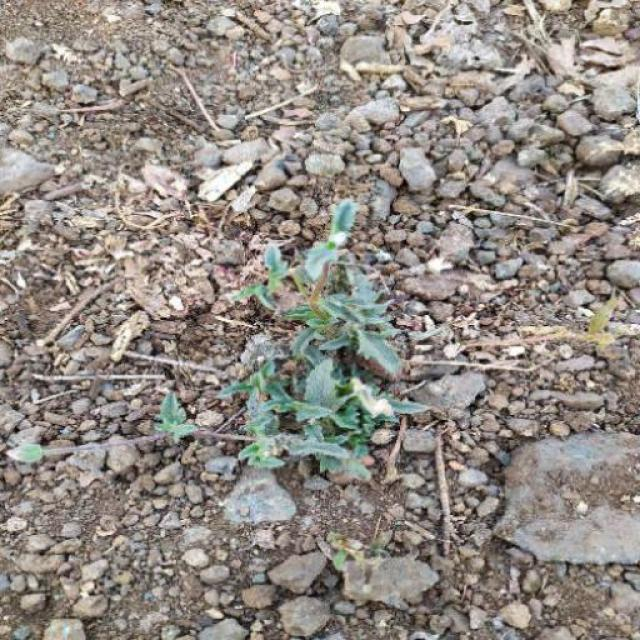weed: (192, 237, 422, 508)
